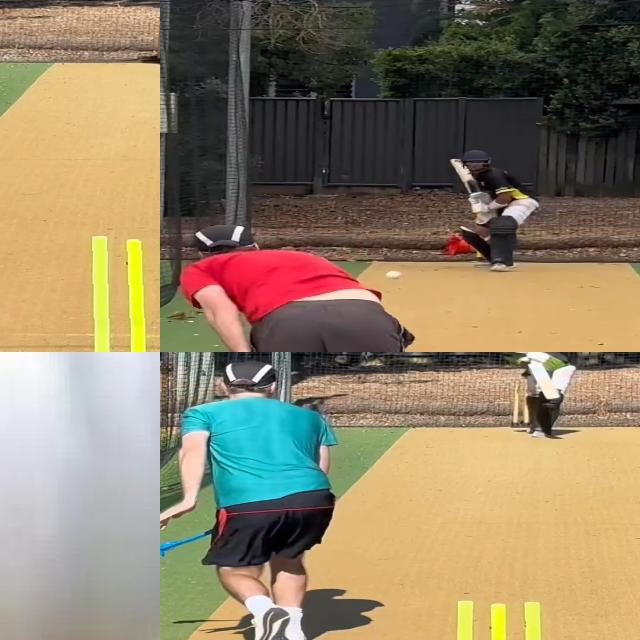Cricket ball: (0, 352, 160, 640), (384, 268, 403, 279)
Stumps: (71, 233, 160, 352), (445, 600, 558, 640)
